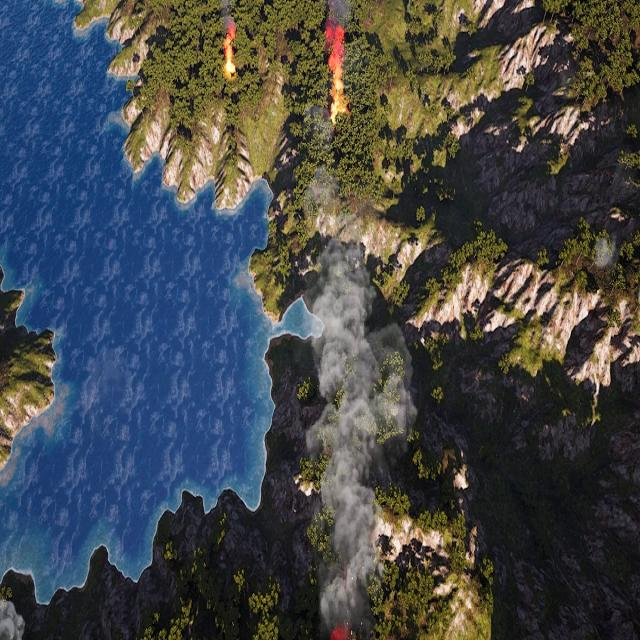fire: (326, 30, 349, 121), (222, 32, 236, 77)
smoke: (303, 164, 423, 640), (323, 0, 355, 49), (0, 599, 26, 639), (593, 232, 620, 270), (216, 0, 237, 38)
